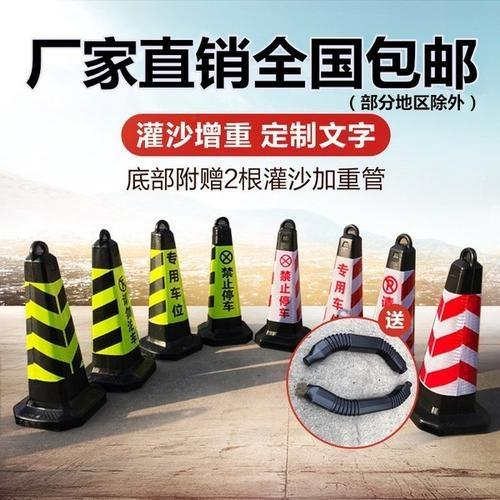cone_barrel: (11, 238, 100, 429), (411, 245, 490, 434), (83, 227, 149, 384), (141, 218, 197, 355), (257, 216, 306, 348), (200, 214, 250, 343), (370, 232, 421, 352), (317, 222, 366, 326)
